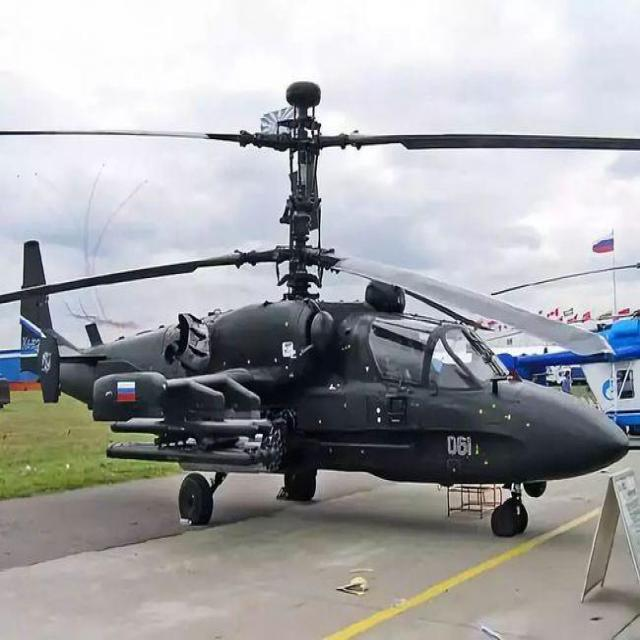MIL_HELO: (0, 78, 640, 537)
